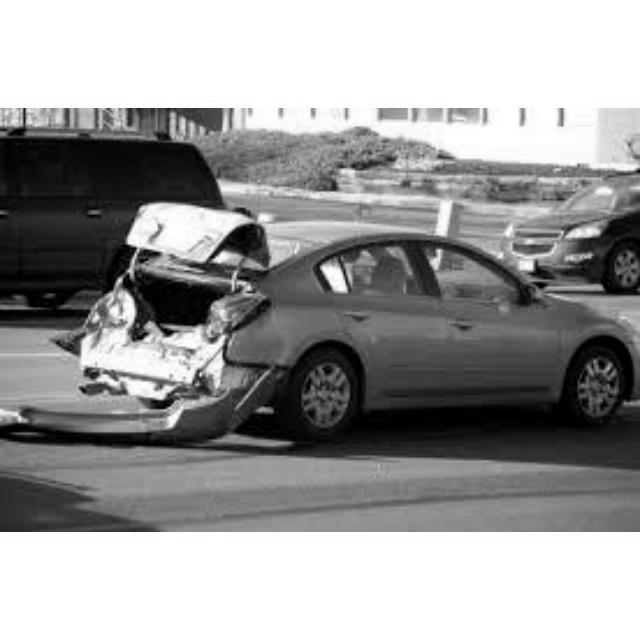rear-bumper-dent: (100, 328, 227, 388)
